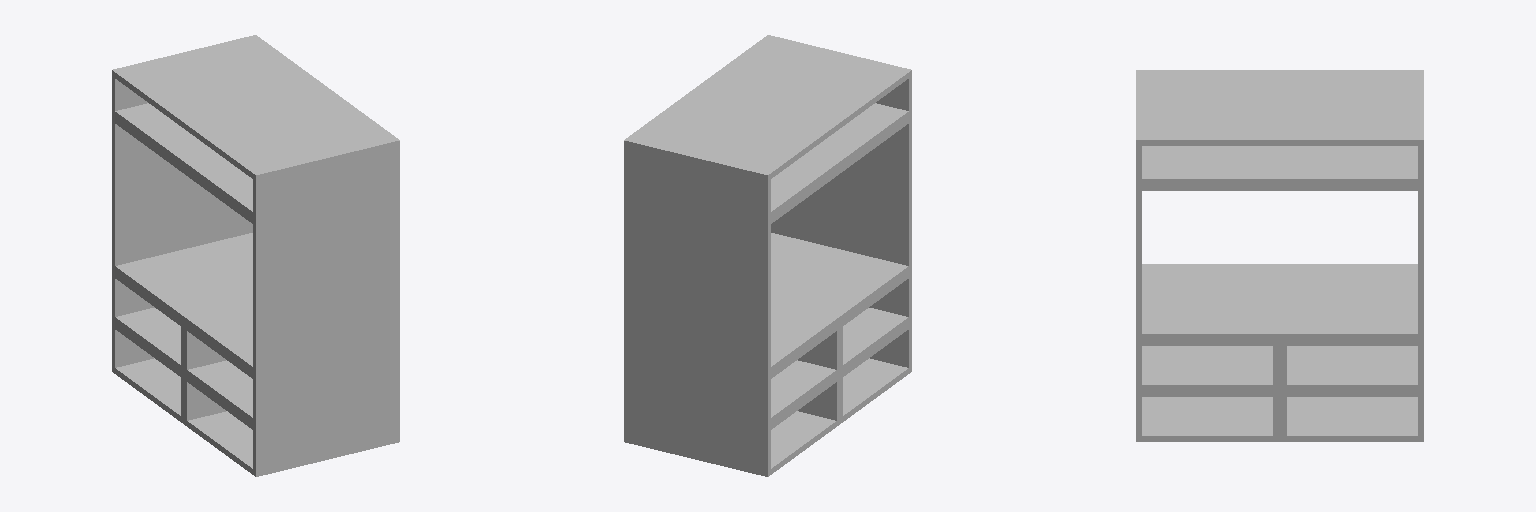
Rendered from tv_shelf_1.obj.
3 renders of one model, left to right at view 1: azimuth 30°, elevation 25°; view 2: azimuth 150°, elevation 25°; view 3: azimuth 270°, elevation 25°, orthographic.
Parts seen in each view (by area): view 1: tv_shelf_1; view 2: tv_shelf_1; view 3: tv_shelf_1.
Part boxes in pixels (bbox=[...]): tv_shelf_1: bbox=[112, 35, 399, 476]; tv_shelf_1: bbox=[624, 35, 911, 476]; tv_shelf_1: bbox=[1136, 70, 1423, 441].
Size of the model in its own units: 1.5 by 3 by 2.6.